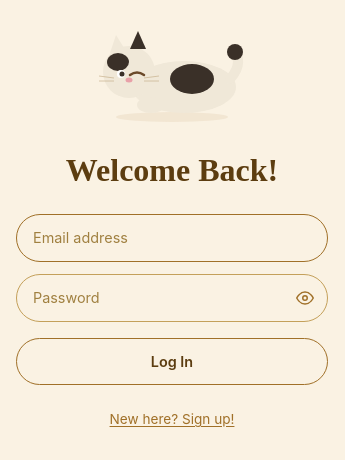
Scenario: Login page › shows an error message on invalid credentials
In the field with placeholder "Email address": (172, 238) [16,214,328,262], type "user@example.com"
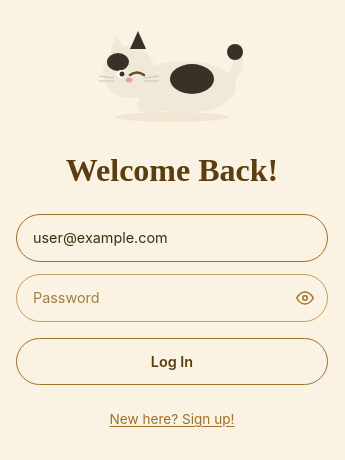
In the password field with placeholder "Password": (172, 298) [16,274,328,322], type "wrongpass"
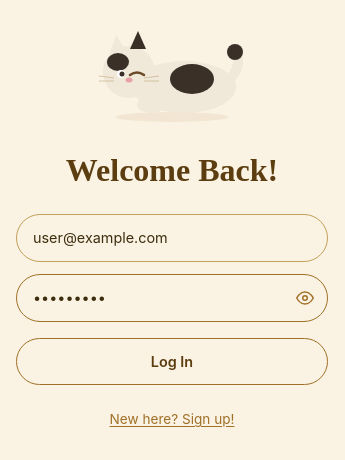
Click the button "Log In": (172, 361) [16,338,328,385]
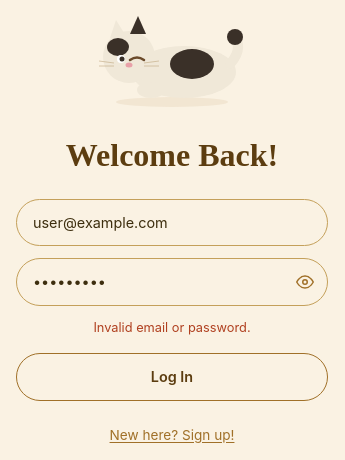
Now the text "Invalid email or password." is shown, box [93,320,251,335]
